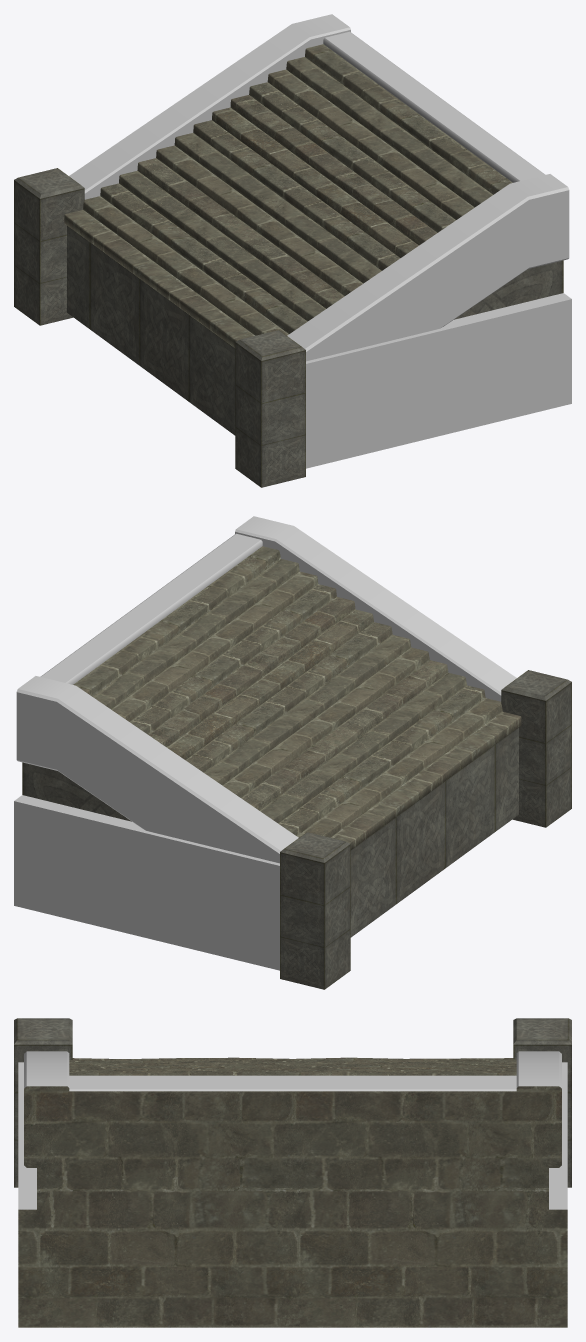
File: bridge_stair_02.fbx
3 renders of one model, top to bottom at view 1: azimuth 30°, elevation 25°; view 2: azimuth 150°, elevation 25°; view 3: azimuth 270°, elevation 25°, orthographic. The views are drawn at different scales.
Visible parts, largest first — view 1: bridge_stair_02; view 2: bridge_stair_02; view 3: bridge_stair_02.
Boxes of the visible parts, x1,y1,x2,y2 form: bridge_stair_02: [14, 14, 571, 487]; bridge_stair_02: [14, 516, 571, 989]; bridge_stair_02: [14, 1018, 571, 1327].
Size of the model in its own units: 576 by 388 by 789.
